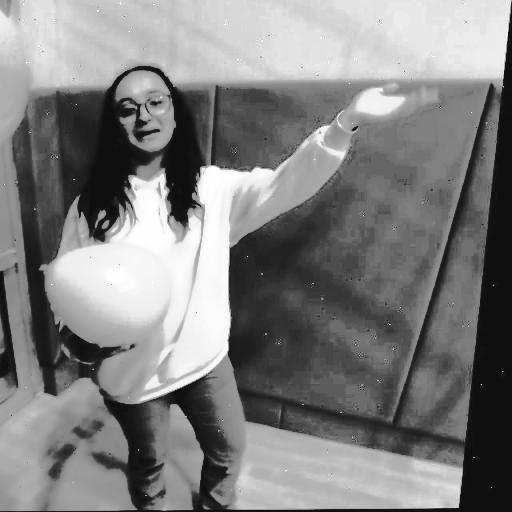balloon: (42, 240, 184, 351), (0, 8, 39, 169)
